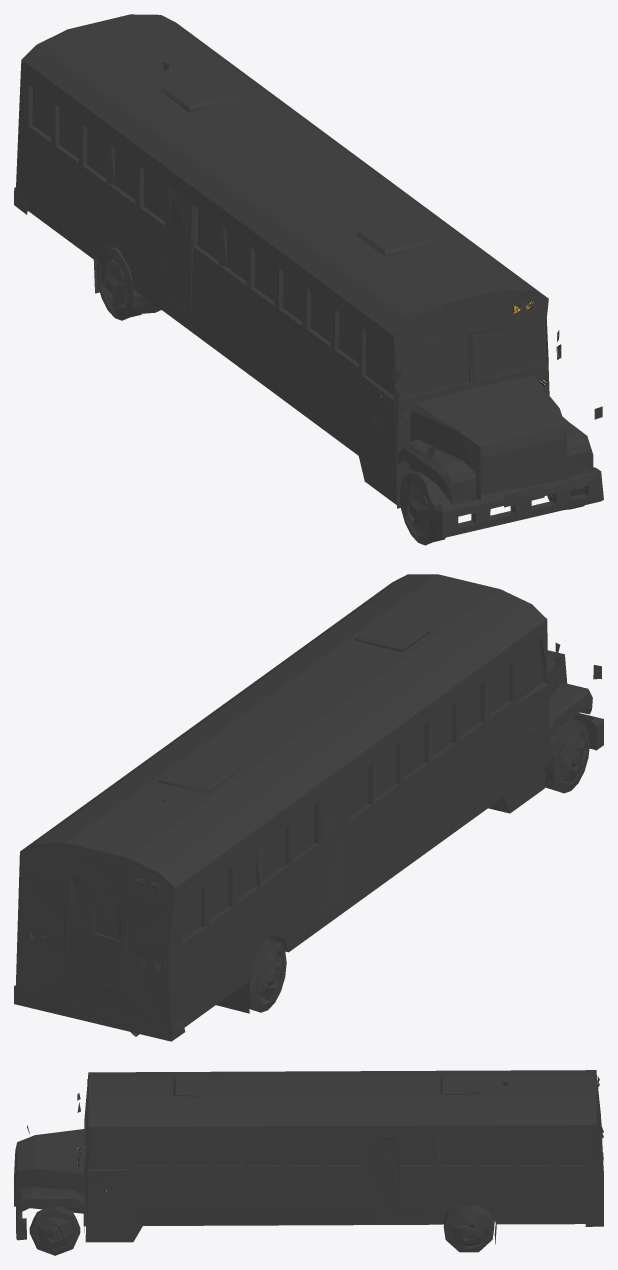
3 views of the same model, one above another, from view 1: azimuth 30°, elevation 25°; view 2: azimuth 150°, elevation 25°; view 3: azimuth 270°, elevation 25° (orthographic). The views are drawn at different scales.
Parts seen in each view (by area): view 1: Object_4; view 2: Object_4; view 3: Object_4.
Part boxes in pixels (x1,y1,x2,y2): Object_4: [14, 14, 603, 545]; Object_4: [14, 574, 603, 1041]; Object_4: [14, 1070, 603, 1255].
Size of the model in its own units: 2.34 by 2.8 by 9.95.
Materials: 1 (1 with a texture image).
